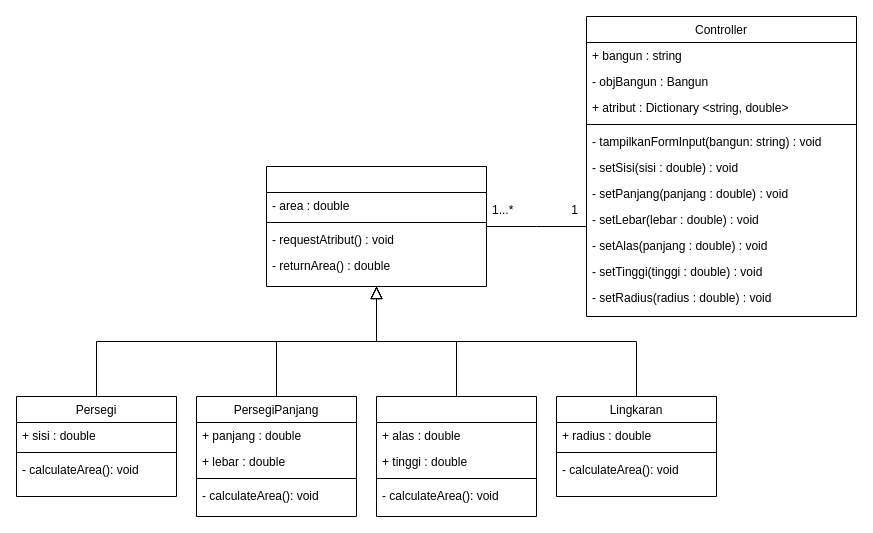
Image size: 873x533. Some labels were removed from this diagram. Here are the shapes that lost their labels. From the top down, the box of each, then its label:
(266, 166, 486, 286): Bangun
(376, 396, 536, 516): Segitiga
